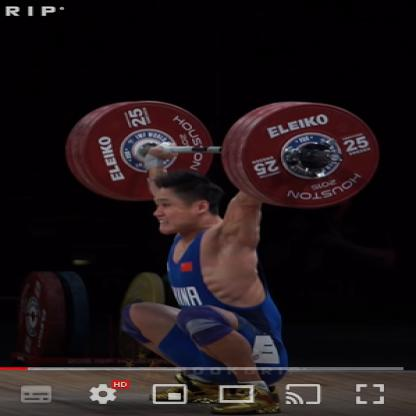Barbell: (215, 94, 388, 213)
